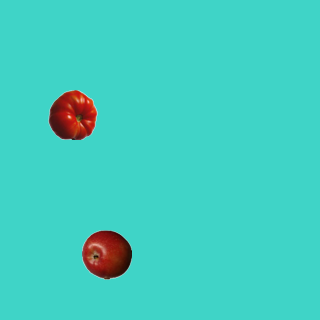Apple Braeburn: (81, 229, 131, 279)
Tomato 3: (47, 89, 97, 139)
